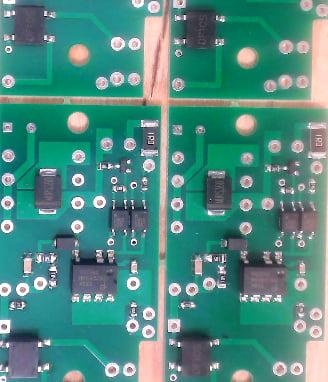chip-capacitor: (22, 251, 34, 278), (192, 254, 203, 278), (298, 258, 307, 277), (129, 259, 138, 275)
chip-resistor: (306, 120, 328, 160), (140, 118, 159, 158), (34, 251, 59, 264), (216, 264, 229, 289), (48, 264, 59, 291), (204, 253, 229, 264), (7, 300, 28, 312), (177, 300, 198, 311), (128, 300, 138, 319), (295, 302, 306, 319), (96, 161, 114, 171), (264, 163, 281, 173), (308, 178, 318, 194), (140, 176, 149, 193), (279, 186, 296, 195), (111, 184, 127, 193)
diode: (32, 167, 63, 216), (204, 169, 234, 217), (51, 235, 80, 250), (219, 237, 249, 251)
ic: (238, 249, 289, 306), (70, 248, 120, 303), (2, 4, 57, 47), (168, 336, 222, 378), (173, 9, 226, 50), (0, 338, 52, 378), (298, 199, 319, 240), (278, 199, 298, 240), (130, 198, 149, 238), (110, 198, 129, 237)
transistor: (282, 160, 301, 177), (115, 158, 133, 175)
